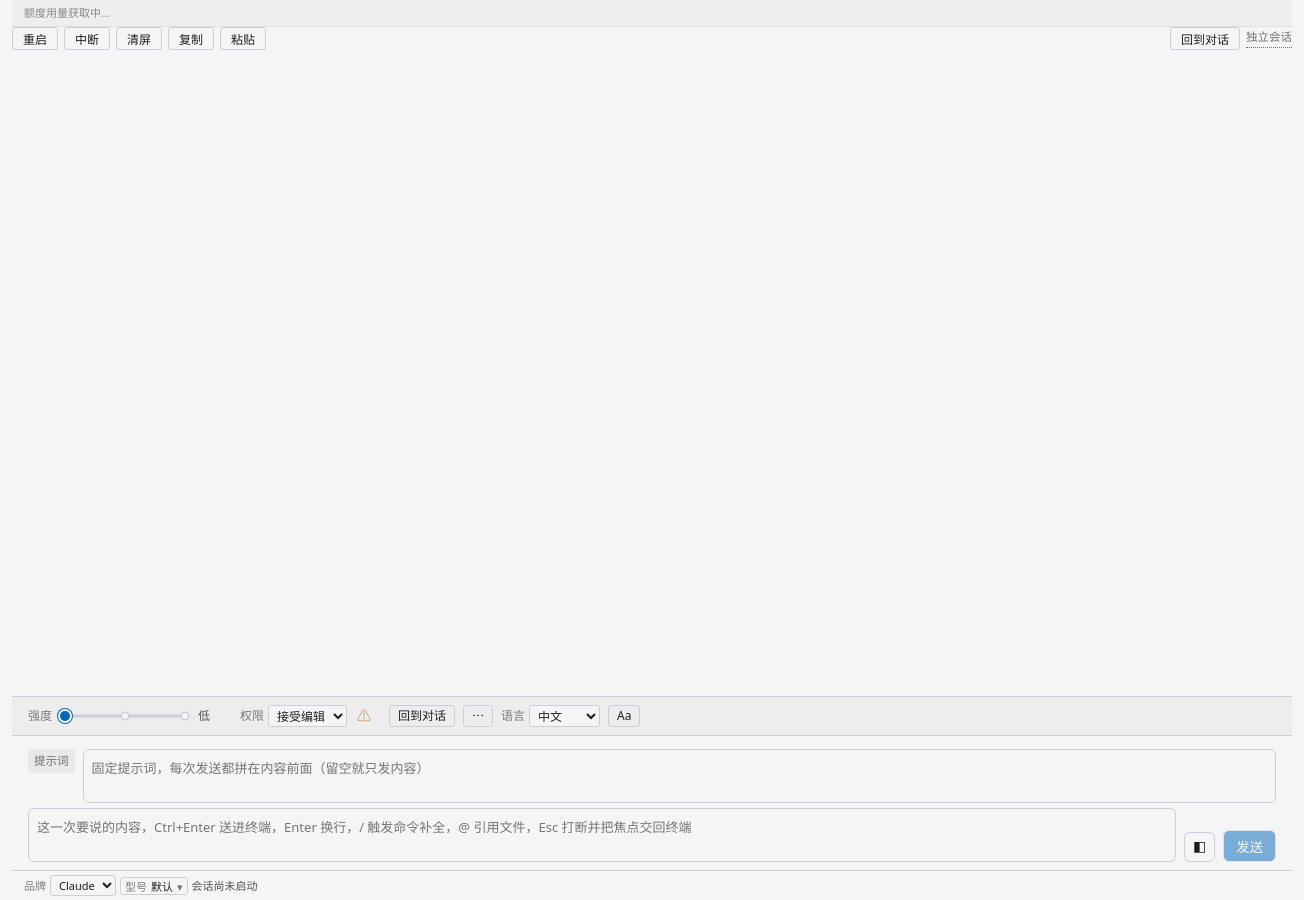
Test: App：终端视图 › 终端起来之后改栏里的选项，摆出差异和重启入口，而不是假装已生效
Select "不询问" in the dropdown with class "status-select" showing "权限" at (308, 716), box top-left (268, 705), bottom-right (347, 727)
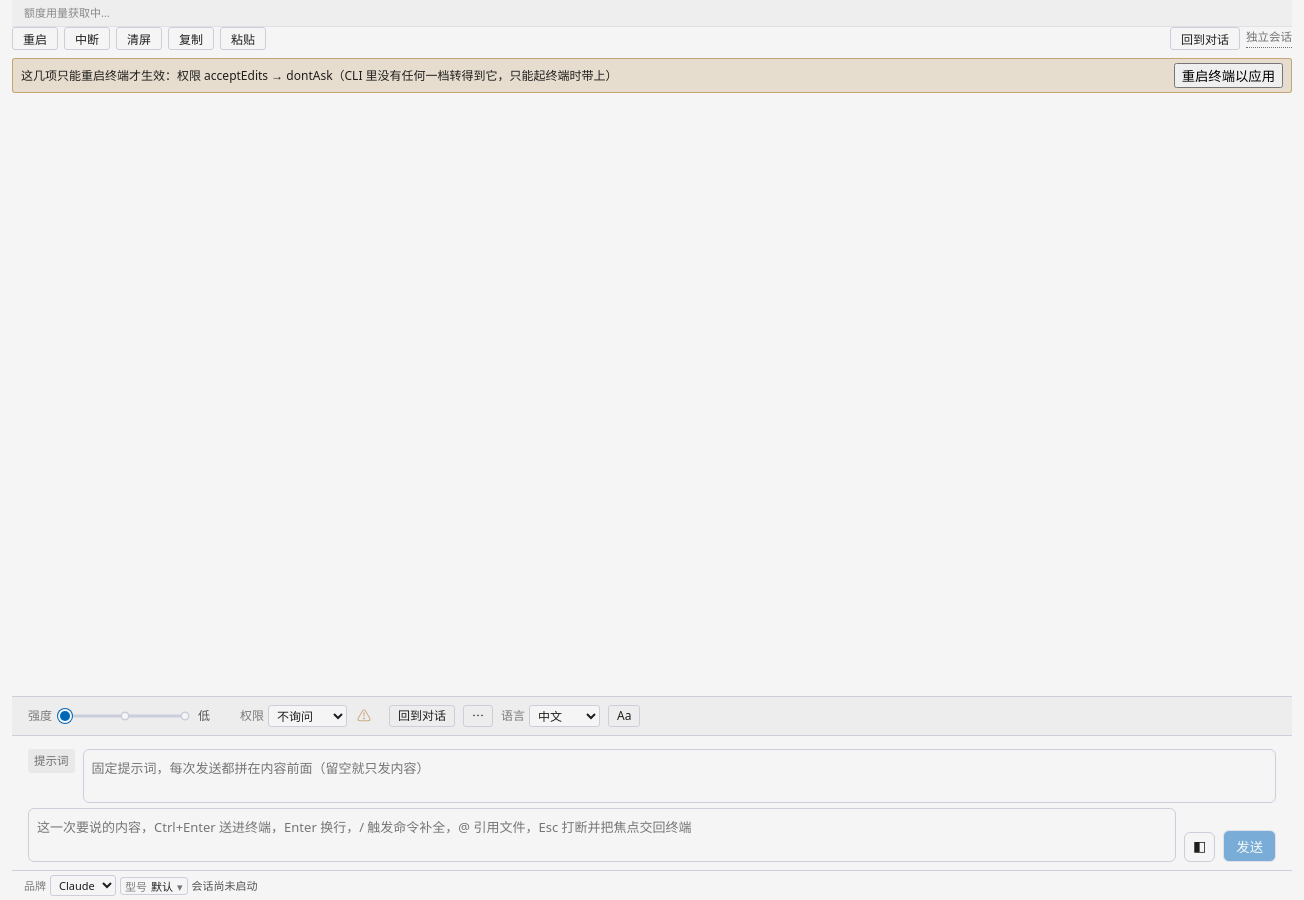
Expected: the message "这几项只能重启终端才生效：权限 acceptEdits → dontAsk（CLI 里没有任何一档转得到它，只能起终端时带上） 重启终端以应用" is shown, top-left (12, 58), bottom-right (1292, 93)
Expected: the message with class "terminal-drift" shows "acceptEdits", top-left (21, 66), bottom-right (618, 84)
Expected: the message with class "terminal-drift" shows "dontAsk", top-left (21, 66), bottom-right (618, 84)
